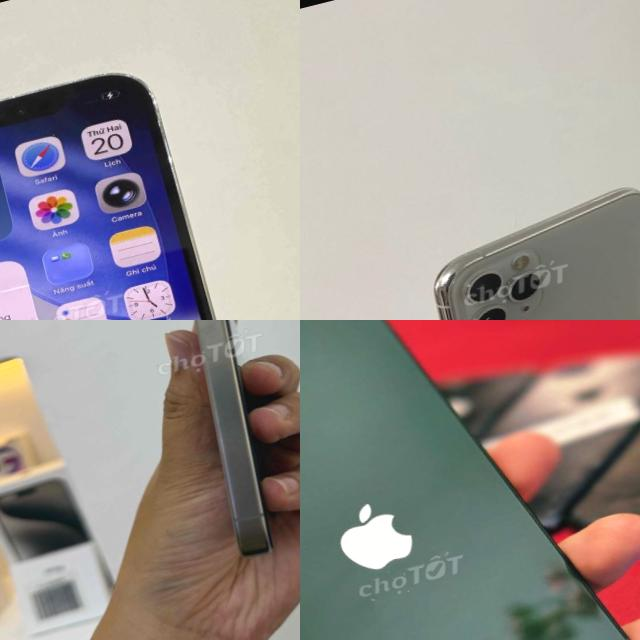scratch: (437, 258, 472, 286)
